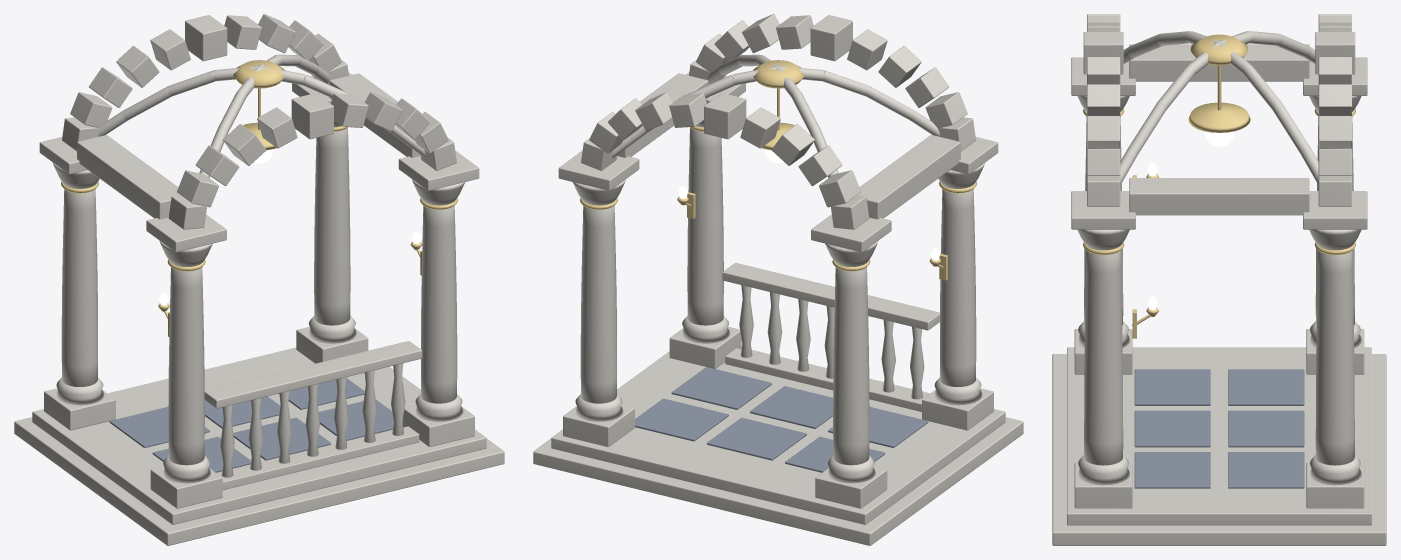
File: rofan-grand-vault-colonnade-bay-v14.glb
3 renders of one model, left to right at view 1: azimuth 30°, elevation 25°; view 2: azimuth 150°, elevation 25°; view 3: azimuth 270°, elevation 25°, orthographic. The views are drawn at different scales.
Parts seen in each view (by area): view 1: PalaceMarbleColonnade, PalaceFloorInlay, PalaceBrassFixtures; view 2: PalaceMarbleColonnade, PalaceFloorInlay, PalaceBrassFixtures; view 3: PalaceMarbleColonnade, PalaceFloorInlay, PalaceBrassFixtures, PalaceSconceFlames.
Part boxes in pixels (x1,y1,x2,y2): PalaceMarbleColonnade: [14, 14, 504, 545]; PalaceFloorInlay: [109, 378, 402, 472]; PalaceBrassFixtures: [61, 60, 457, 336]; PalaceMarbleColonnade: [533, 14, 1023, 545]; PalaceFloorInlay: [635, 367, 928, 472]; PalaceBrassFixtures: [580, 60, 976, 280]; PalaceMarbleColonnade: [1052, 14, 1386, 545]; PalaceFloorInlay: [1134, 369, 1304, 488]; PalaceBrassFixtures: [1083, 34, 1355, 338]; PalaceSconceFlames: [1147, 131, 1234, 310].
Size of the model in its own units: 3.8 by 4.15 by 3.
